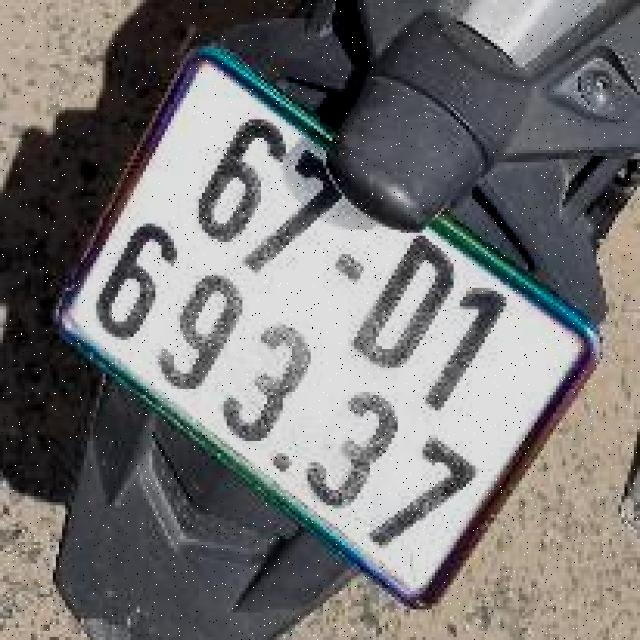1: (399, 268, 528, 425)
3: (291, 369, 421, 522), (207, 304, 329, 456)
6: (180, 103, 306, 250), (84, 211, 196, 357)
7: (225, 141, 366, 292), (355, 422, 494, 573)
9: (145, 256, 262, 407)
D: (344, 223, 483, 387)
